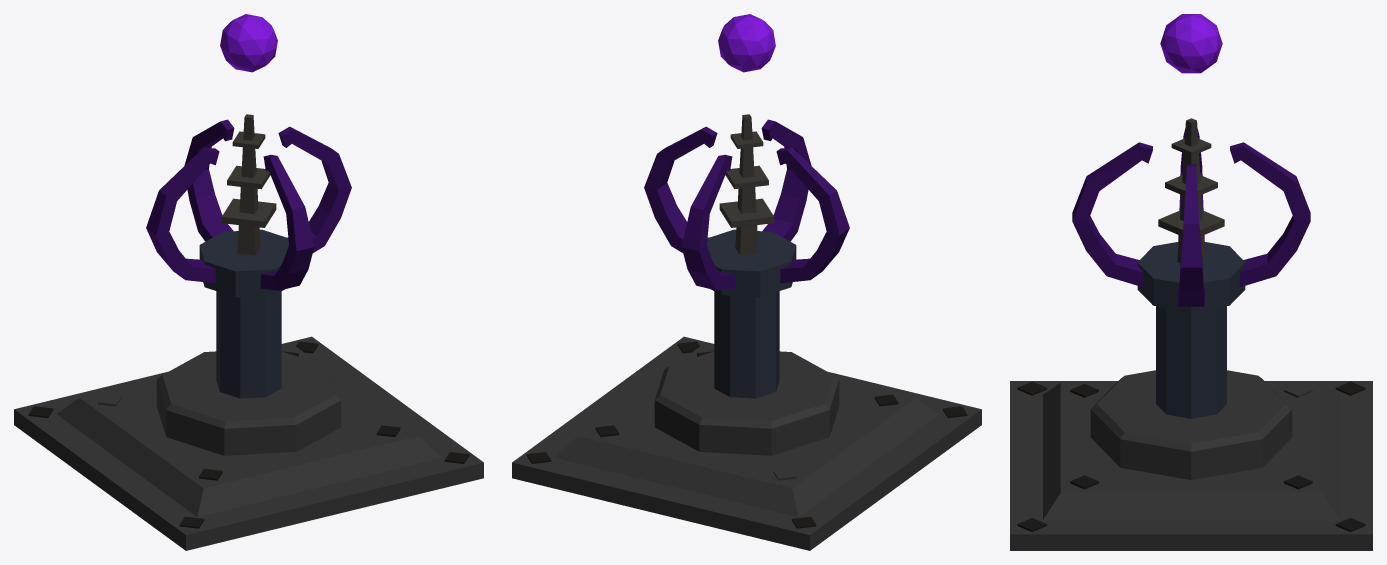
The model's file is tower_chain.glb.
The picture shows the model from 3 angles, left to right: view 1: azimuth 30°, elevation 25°; view 2: azimuth 150°, elevation 25°; view 3: azimuth 270°, elevation 25°; orthographic projection. The views are drawn at different scales.
Parts seen in each view (by area): view 1: BaseLightingTurret1; view 2: BaseLightingTurret1; view 3: BaseLightingTurret1.
Boxes of the visible parts, x1=… form: BaseLightingTurret1: x1=14, y1=14, x2=483, y2=550; BaseLightingTurret1: x1=512, y1=14, x2=981, y2=550; BaseLightingTurret1: x1=1010, y1=14, x2=1372, y2=550.
Bounding box in the file's own units: 3.53 × 4.93 × 3.53.
Materials: 1 (1 with a texture image).
